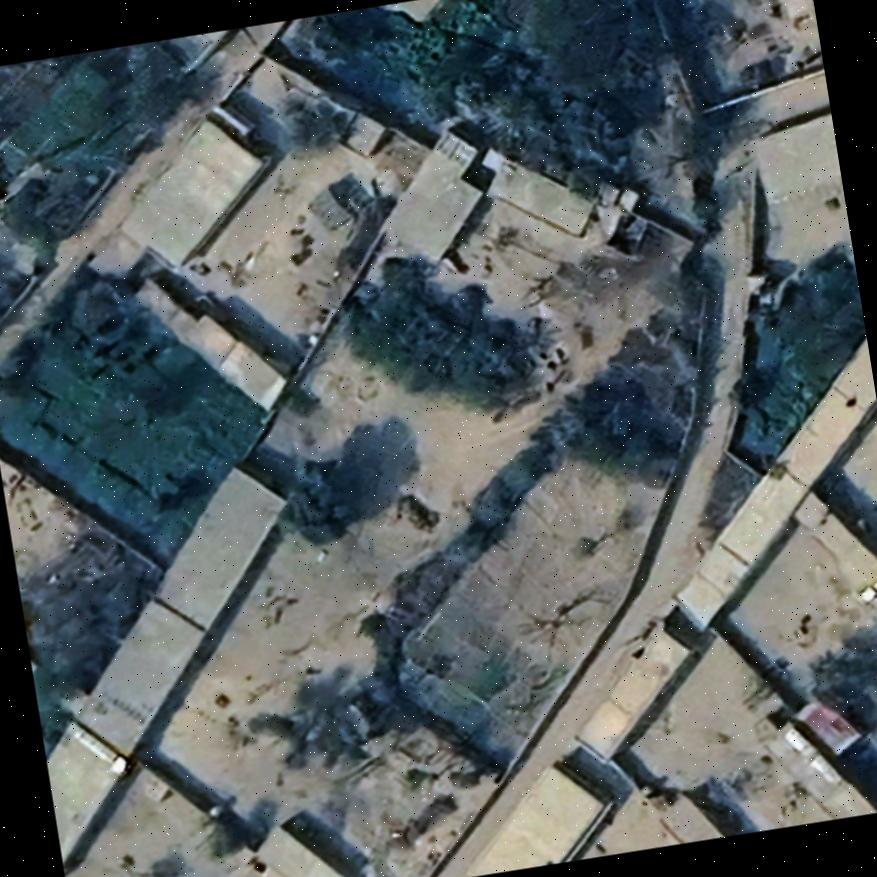Solarpanel: (429, 126, 480, 177), (91, 683, 149, 727)
